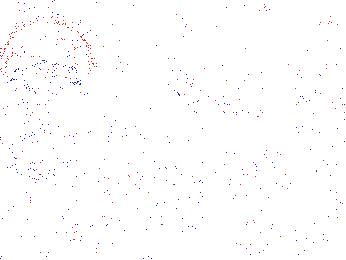moon jellyfish: (203, 11, 315, 78), (1, 76, 78, 173), (1, 19, 96, 84), (173, 31, 243, 119), (299, 23, 346, 102)
